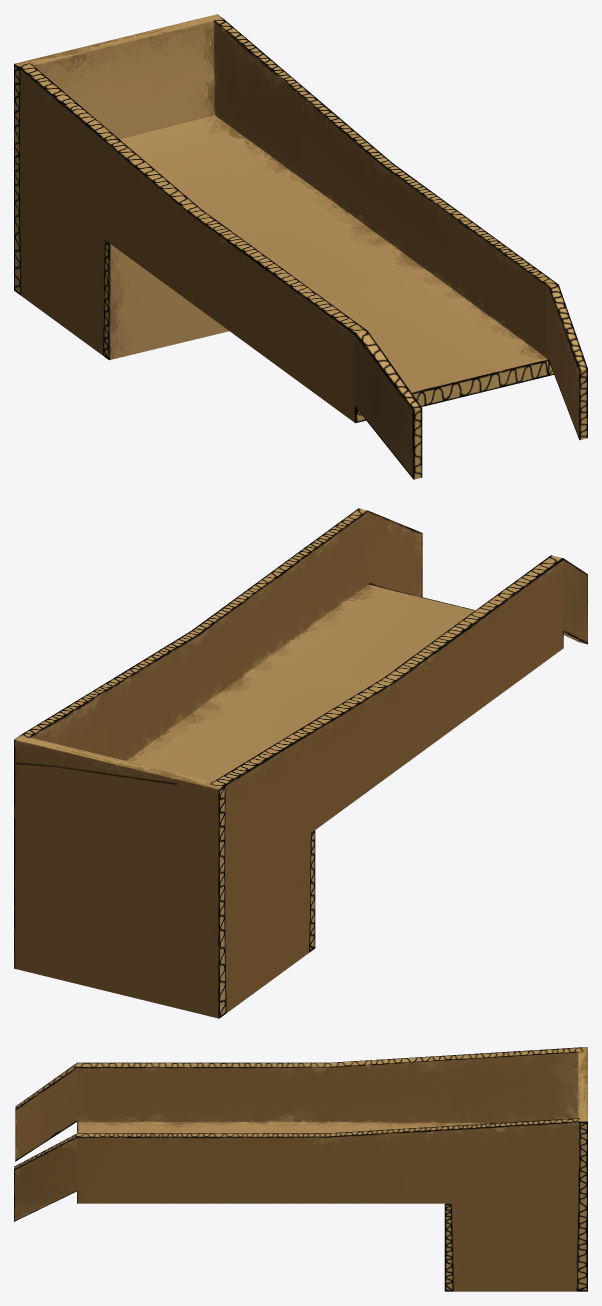
The model's file is SM_Part5_Playtrack.fbx.
3 renders of one model, top to bottom at view 1: azimuth 30°, elevation 25°; view 2: azimuth 150°, elevation 25°; view 3: azimuth 270°, elevation 25°, orthographic. The views are drawn at different scales.
Parts seen in each view (by area): view 1: Panel_5; view 2: Panel_5; view 3: Panel_5.
Boxes of the visible parts, x1,y1,x2,y2 form: Panel_5: (14, 14, 587, 479); Panel_5: (14, 508, 587, 1018); Panel_5: (14, 1047, 587, 1291).
Size of the model in its own units: 2746 by 2925 by 8966.
